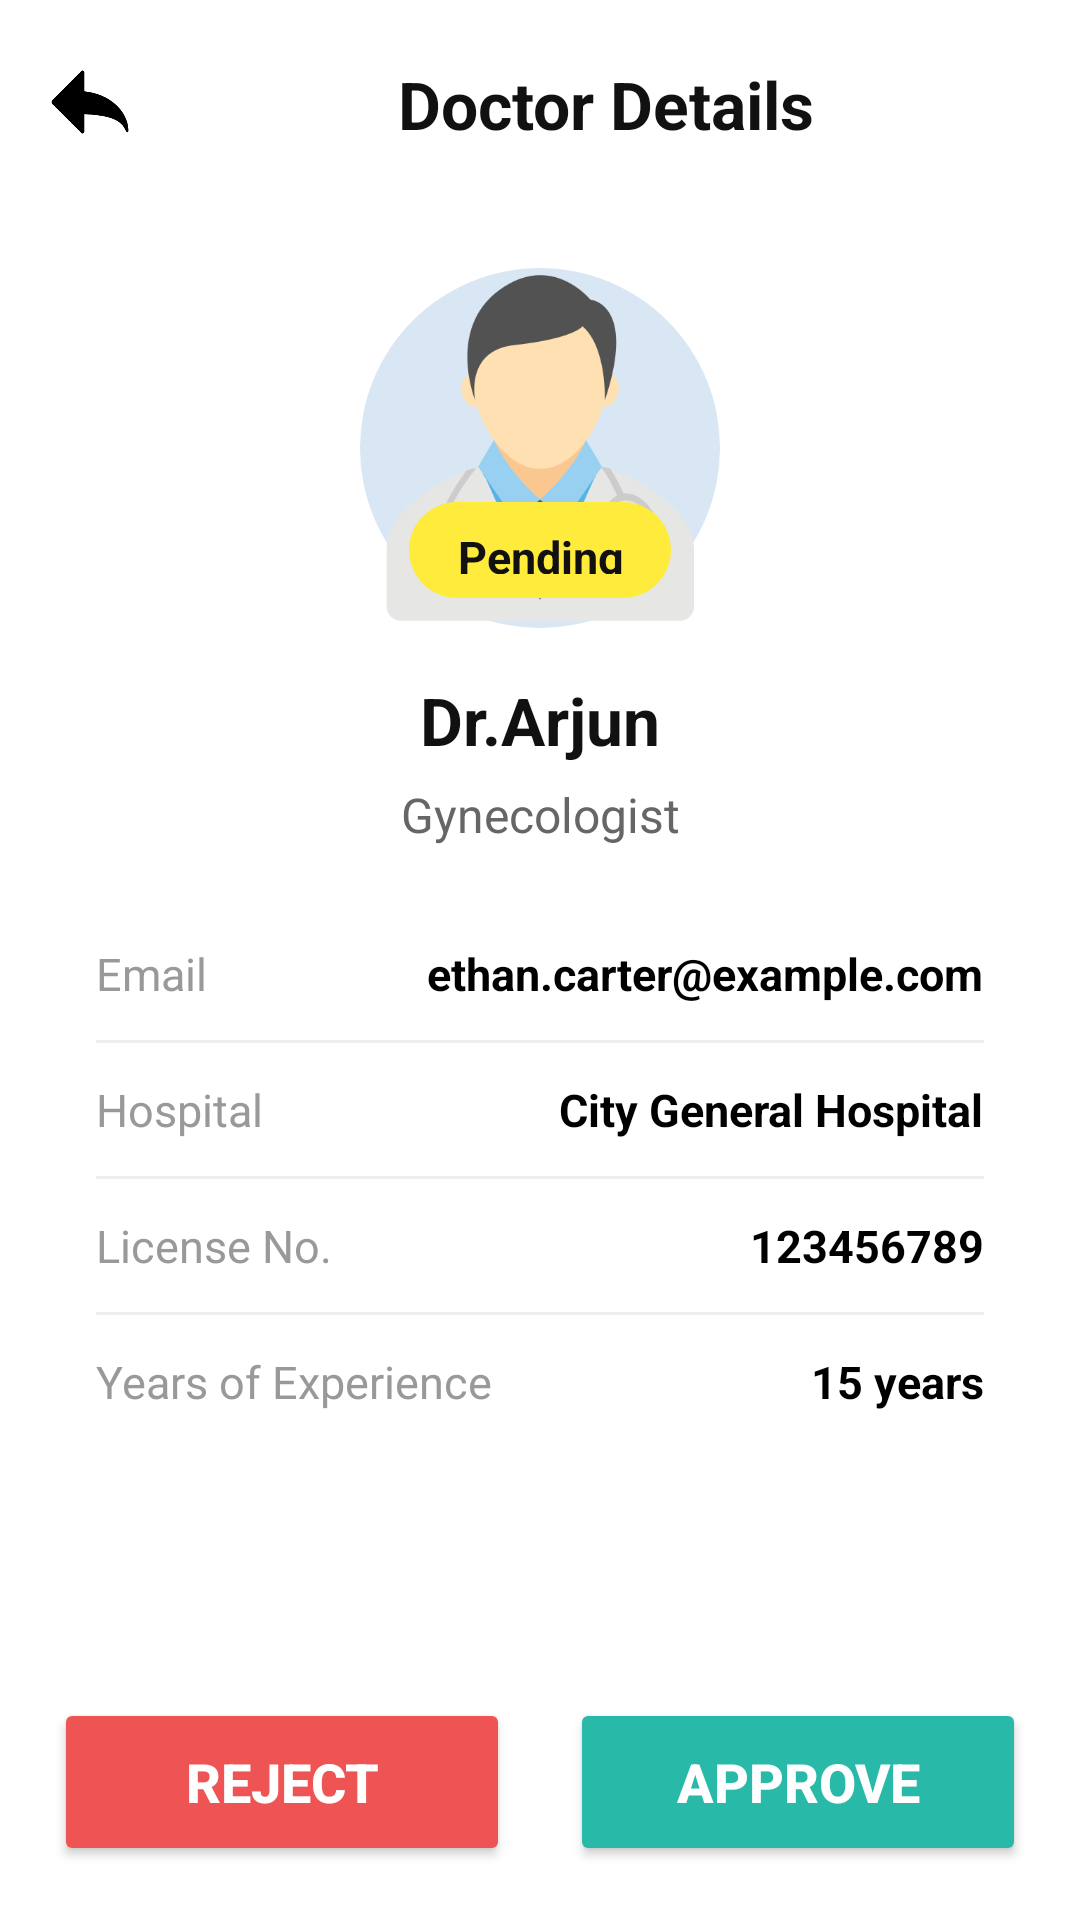

Screen size 1080*1920. Icon name, then its box in pixels as (x1, y1, x2, y2):
Back: (51, 70, 129, 134)
